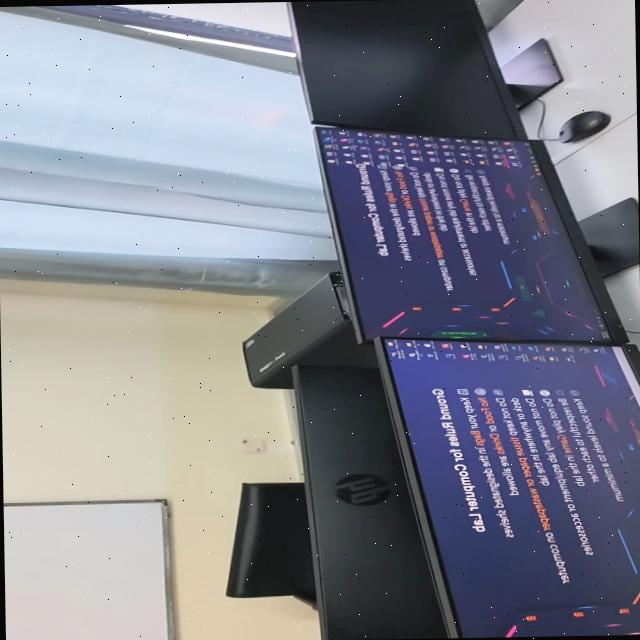Chair: (226, 481, 314, 602)
Cpu: (242, 270, 376, 387)
Monitor: (377, 338, 640, 638), (314, 126, 620, 342), (293, 365, 448, 640), (286, 0, 525, 137)
Mouse: (557, 110, 610, 141)
